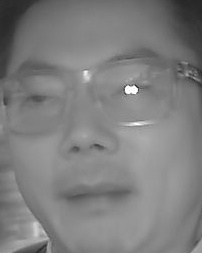glass: (86, 56, 175, 127), (4, 69, 68, 135)
mouth: (59, 179, 128, 215)
